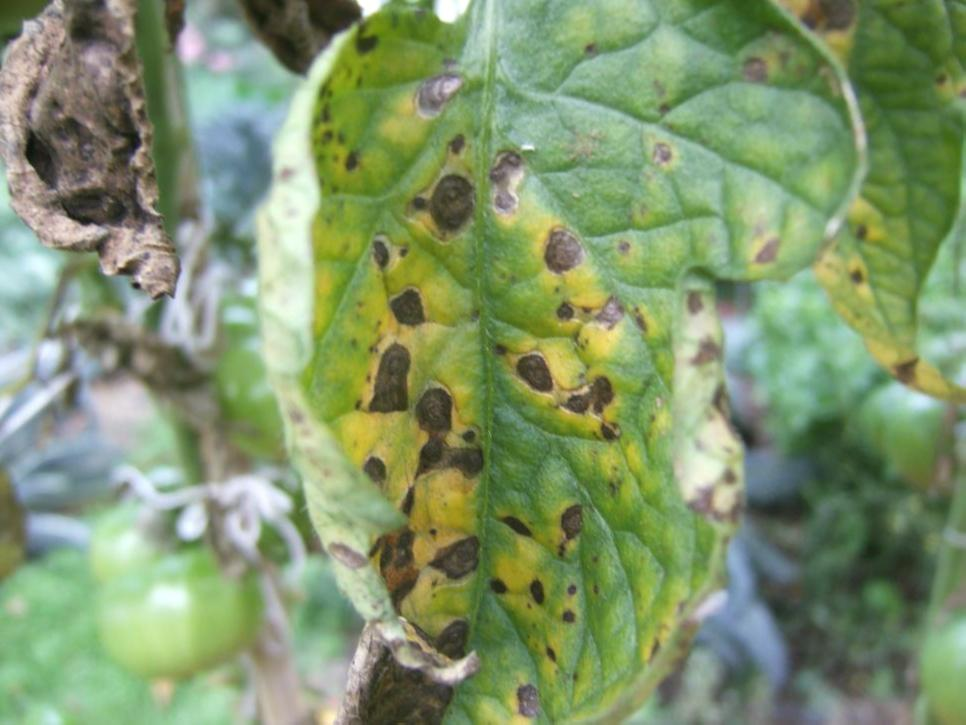Tomato Early blight leaf: (297, 9, 866, 712)
